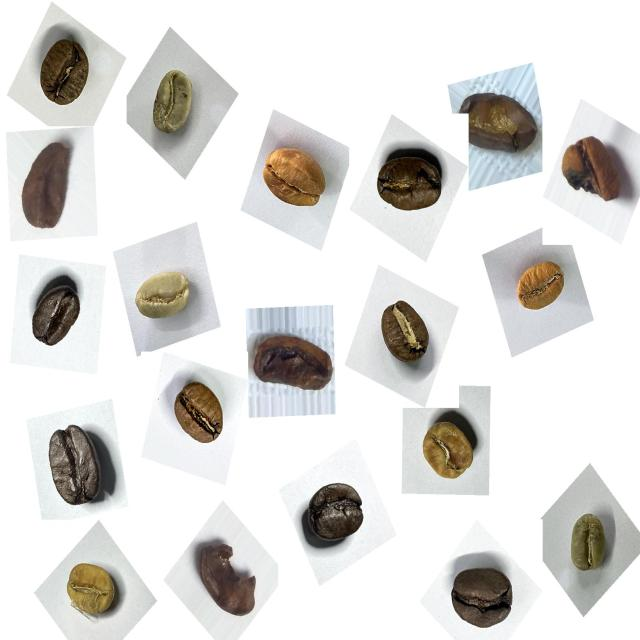bad: (245, 318, 337, 406), (456, 79, 544, 169), (9, 136, 77, 244), (190, 532, 266, 627), (555, 128, 635, 215)
dark: (35, 414, 118, 514), (368, 138, 452, 228), (444, 550, 524, 637), (298, 473, 376, 562), (20, 274, 89, 362)
green: (142, 62, 205, 150), (127, 259, 200, 334), (560, 504, 620, 584)
light: (256, 137, 336, 227), (411, 410, 484, 494), (57, 552, 125, 631), (510, 252, 576, 325)
medium: (30, 31, 100, 120), (369, 291, 439, 378), (164, 371, 233, 458)
